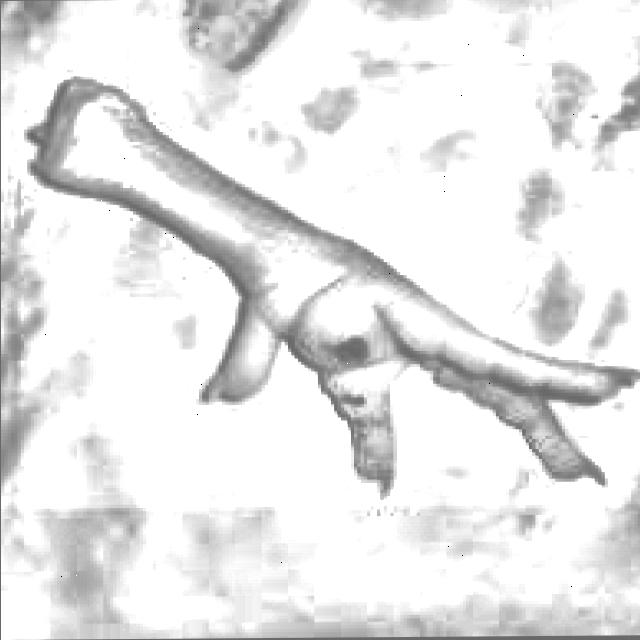Bumble foot: (296, 306, 387, 380)
